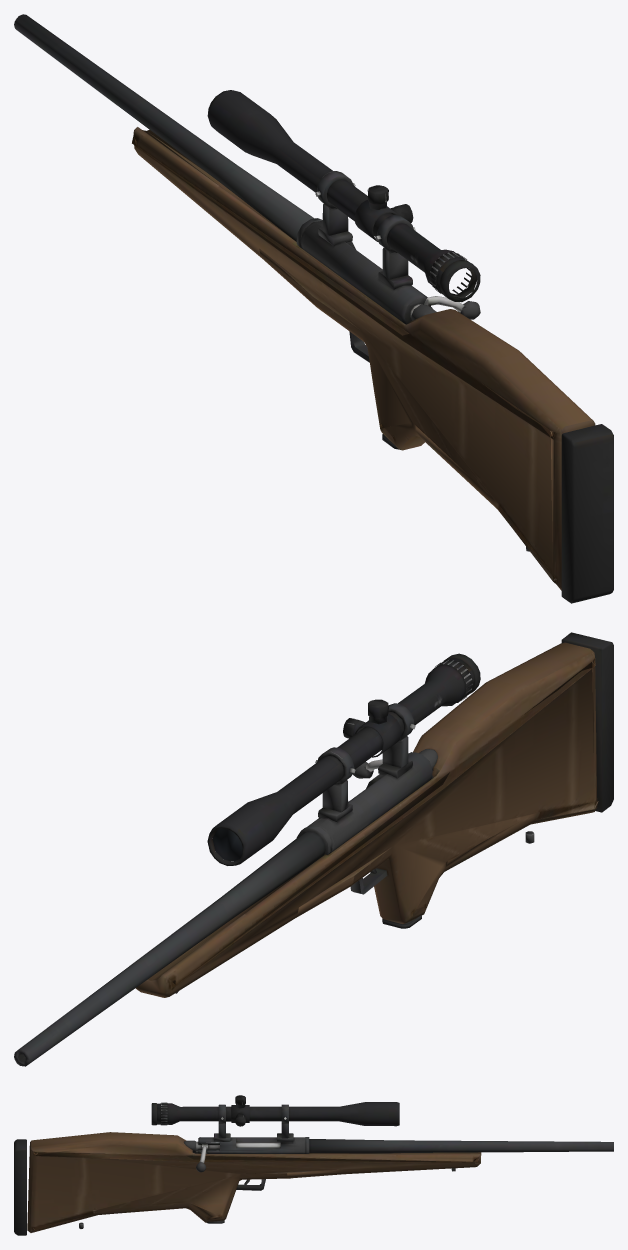
File: rivington_lod.glb
3 views of the same model, one above another, from view 1: azimuth 30°, elevation 25°; view 2: azimuth 150°, elevation 25°; view 3: azimuth 270°, elevation 25° (orthographic). The views are drawn at different scales.
Parts seen in each view (by area): view 1: rivington_lod; view 2: rivington_lod; view 3: rivington_lod.
Part boxes in pixels (left/top/right/bottom): rivington_lod: left=14, top=14, right=613, bottom=603; rivington_lod: left=14, top=632, right=613, bottom=1066; rivington_lod: left=14, top=1095, right=613, bottom=1235.
Bounding box in the file's own units: 0.0886 × 0.2566 × 1.05.
Materials: 1 (1 with a texture image).
